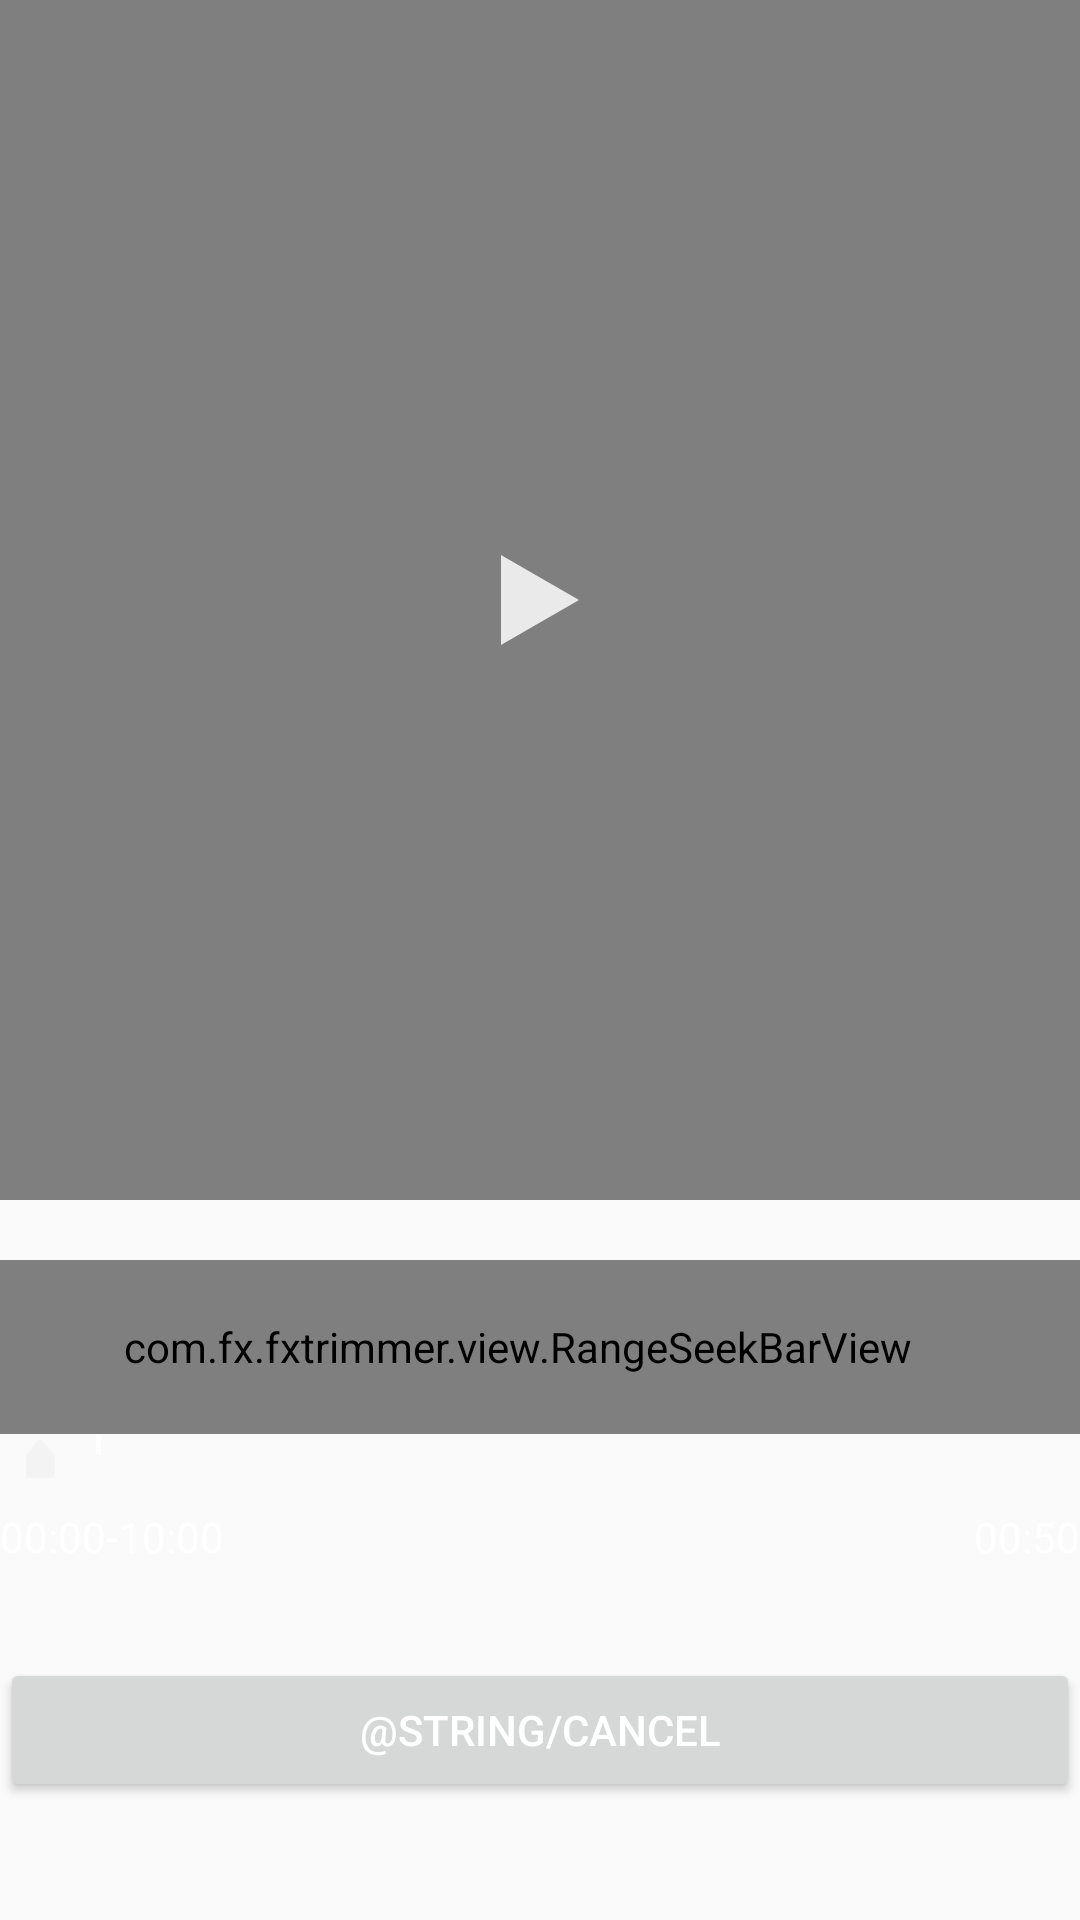

Screen size 1080w x 1920h. Icon name, then its center in pixels as point (x, y):
play: point (540, 600)
